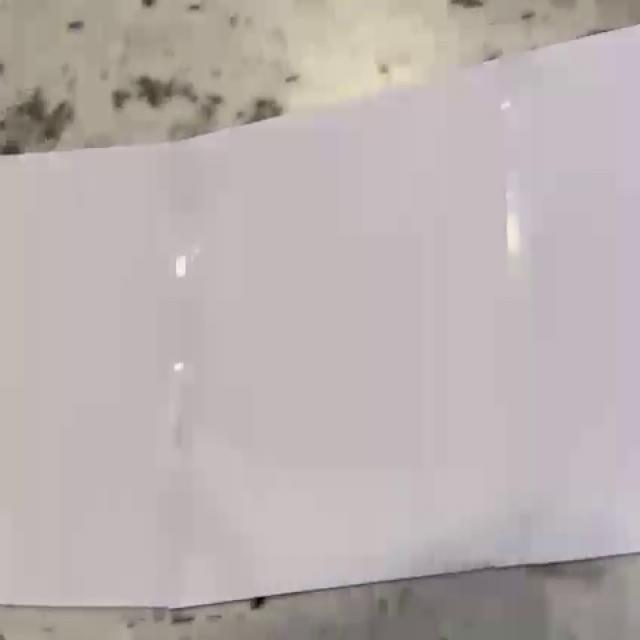road: (0, 25, 640, 608)
